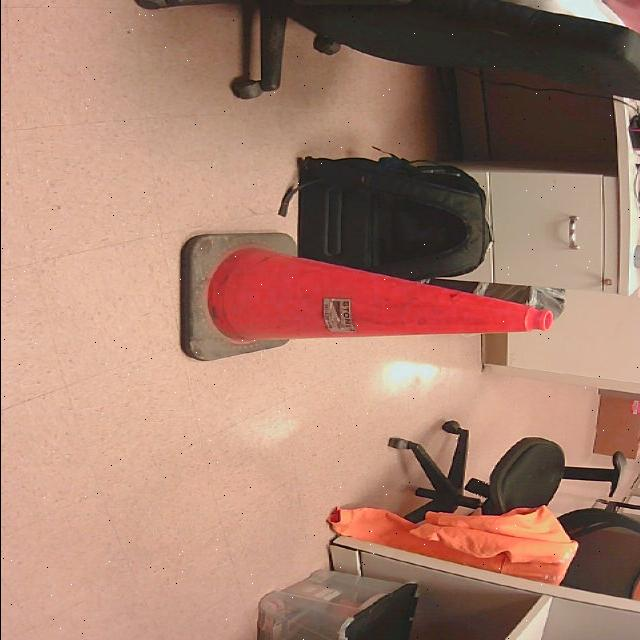traffic cone: (177, 233, 554, 363)
